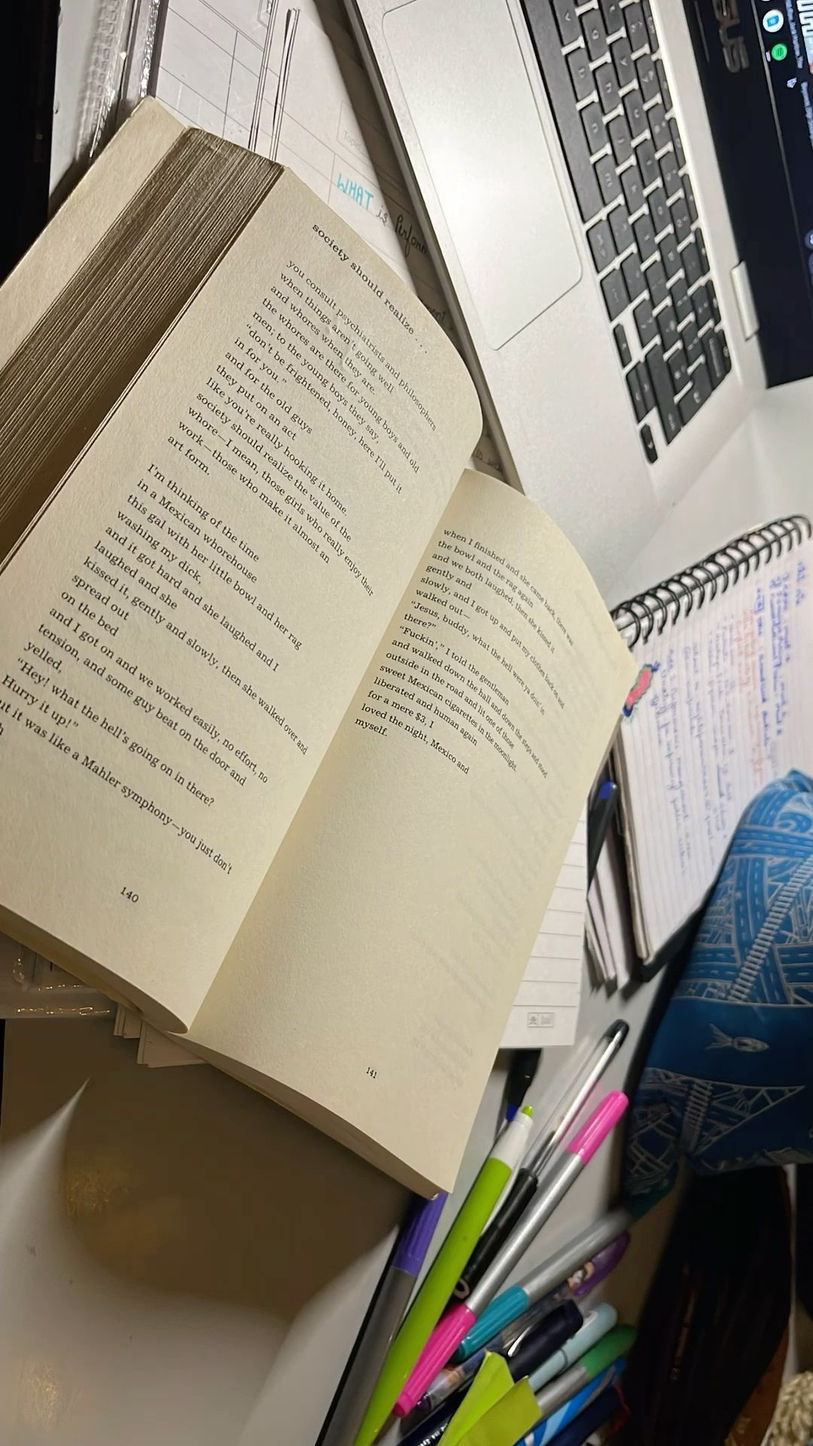not a gesture sign: (49, 333, 594, 1133)
